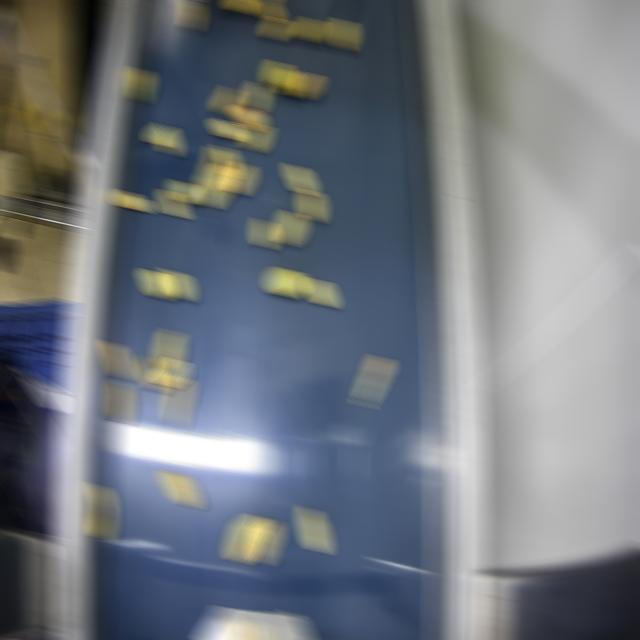Baby Potato: (356, 352, 394, 407), (228, 514, 265, 563), (200, 165, 231, 207), (162, 470, 197, 507), (251, 520, 278, 563), (167, 376, 188, 426), (303, 507, 326, 552), (92, 485, 111, 539), (269, 267, 304, 296), (199, 149, 224, 188), (157, 329, 180, 368), (277, 211, 302, 245), (149, 123, 176, 154), (105, 343, 128, 379), (143, 269, 170, 298), (155, 360, 184, 386), (288, 163, 311, 194), (227, 162, 250, 193), (165, 271, 190, 299), (111, 381, 128, 422), (293, 71, 318, 98), (215, 86, 238, 115), (142, 356, 161, 391), (116, 190, 147, 211), (308, 280, 333, 306), (131, 68, 150, 102), (244, 123, 267, 151), (233, 108, 262, 130), (302, 188, 321, 221), (216, 145, 235, 176), (333, 18, 352, 49), (277, 69, 298, 96), (163, 189, 184, 216), (213, 119, 240, 140), (266, 60, 287, 87), (170, 181, 195, 203), (247, 82, 266, 110), (298, 17, 321, 40), (256, 218, 273, 247), (265, 16, 286, 39), (184, 0, 199, 30), (260, 0, 279, 21), (228, 0, 251, 12)
